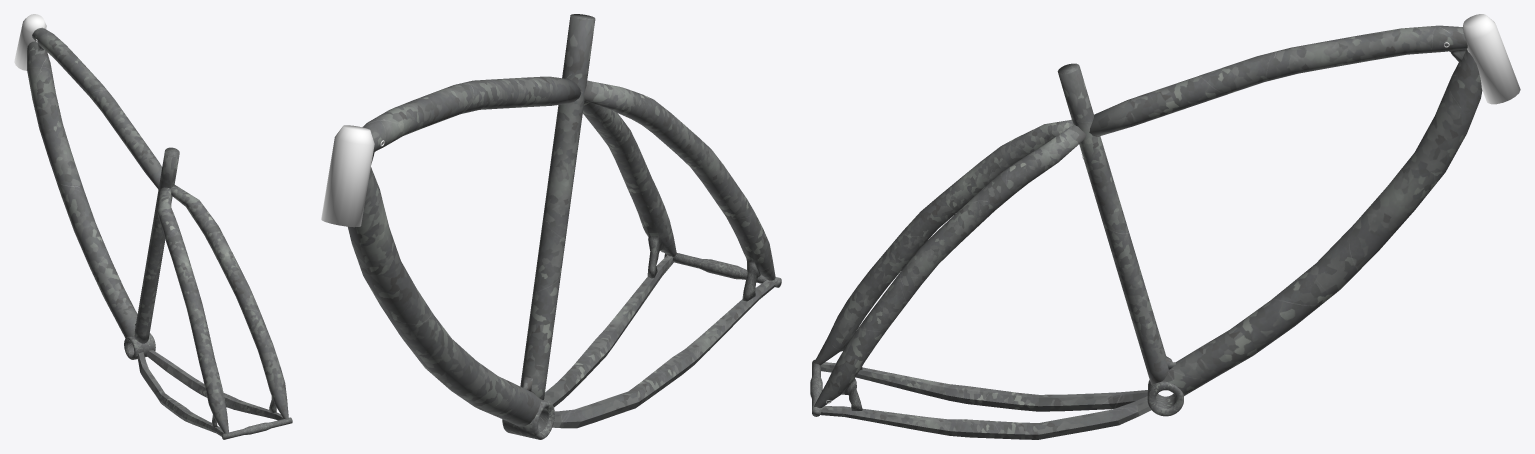
The model's file is Quadro circular.glb.
3 views of the same model, side by side, from view 1: azimuth 30°, elevation 25°; view 2: azimuth 150°, elevation 25°; view 3: azimuth 270°, elevation 25° (orthographic). The views are drawn at different scales.
Parts seen in each view (by area): view 1: Quadro redondo; view 2: Quadro redondo; view 3: Quadro redondo.
Part boxes in pixels (box(x1,y1,x2,y2)): Quadro redondo: box(14, 14, 292, 439); Quadro redondo: box(321, 14, 781, 439); Quadro redondo: box(810, 14, 1520, 439).
Size of the model in its own units: 0.1994 by 0.692 by 1.09.
3 materials, 1 textured.
